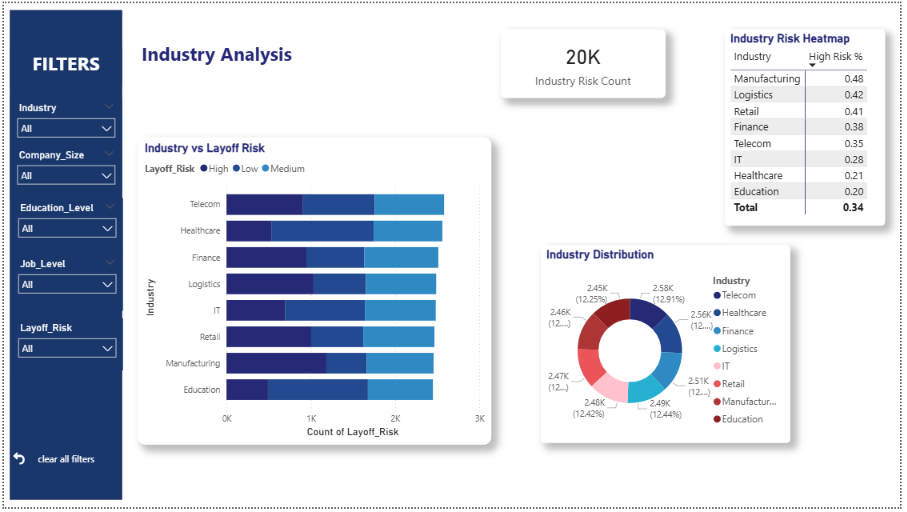

This screenshot's page, from the dashboard's own definition file:
{"tool":"powerbi","page":{"name":"Industry Analysis","canvas":[1280,720],"ordinal":6},"visuals":[{"type":"shape","box":[8.7,10,160,699.1],"z":0},{"type":"textbox","box":[8.4,62.7,160.2,55.4],"z":1000},{"type":"slicer","fields":{"Values":["AI_Impact_Cleaned.Industry"]},"box":[8.4,136.1,160.2,66.3],"z":2000},{"type":"slicer","fields":{"Values":["AI_Impact_Cleaned.Company_Size"]},"box":[8.4,202.4,160.2,75.9],"z":3000},{"type":"slicer","fields":{"Values":["AI_Impact_Cleaned.Education_Level"]},"box":[9.6,278.3,160.2,80.7],"z":4000},{"type":"slicer","fields":{"Values":["AI_Impact_Cleaned.Job_Level"]},"box":[9.6,359,160.2,80.7],"z":5000},{"type":"slicer","fields":{"Values":["AI_Impact_Cleaned.Layoff_Risk"]},"box":[9.6,449.4,160.2,74.7],"z":6000},{"type":"actionButton","box":[8.4,630.1,160.2,39.8],"z":7000},{"type":"textbox","box":[257.5,36.1,277.4,52.2],"z":8000},{"type":"card","fields":{"Values":["AI_Impact_Cleaned.Industry Risk Count"]},"box":[767.5,13.7,235.1,98.3],"z":9000},{"type":"barChart","title":"Industry vs Layoff Risk","fields":{"Series":["AI_Impact_Cleaned.Layoff_Risk"],"Category":["AI_Impact_Cleaned.Industry"],"Y":["CountNonNull(AI_Impact_Cleaned.Layoff_Risk)"]},"box":[191.6,191.6,505,439.1],"z":10000},{"type":"donutChart","title":"Industry Distribution","fields":{"Category":["AI_Impact_Cleaned.Industry"],"Y":["CountNonNull(AI_Impact_Cleaned.Industry)"]},"box":[767.5,345.8,355.8,282.4],"z":11000},{"type":"pivotTable","title":"Industry Risk Heatmap","fields":{"Rows":["AI_Impact_Cleaned.Industry"],"Values":["AI_Impact_Cleaned.High Risk %"]},"box":[1030,37.3,228.9,281.1],"z":12000}]}

Visuals, with their boxes in screenshot pixels (x1, y1, x2, y2), scaled from the page's 1280x720 canvas onto the 907x512 screenshot:
shape: [6,7,120,504]
textbox: [6,45,119,84]
slicer - AI_Impact_Cleaned.Industry: [6,97,119,144]
slicer - AI_Impact_Cleaned.Company_Size: [6,144,119,198]
slicer - AI_Impact_Cleaned.Education_Level: [7,198,120,255]
slicer - AI_Impact_Cleaned.Job_Level: [7,255,120,313]
slicer - AI_Impact_Cleaned.Layoff_Risk: [7,320,120,373]
actionButton: [6,448,119,476]
textbox: [182,26,379,63]
card - AI_Impact_Cleaned.Industry Risk Count: [544,10,710,80]
"Industry vs Layoff Risk" barChart: [136,136,494,448]
"Industry Distribution" donutChart: [544,246,796,447]
"Industry Risk Heatmap" pivotTable: [730,27,892,226]
